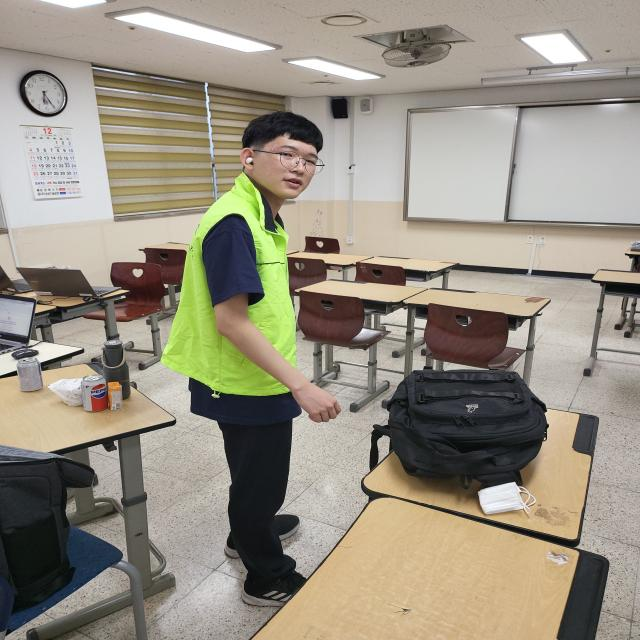weston_spy: (154, 161, 342, 412)
